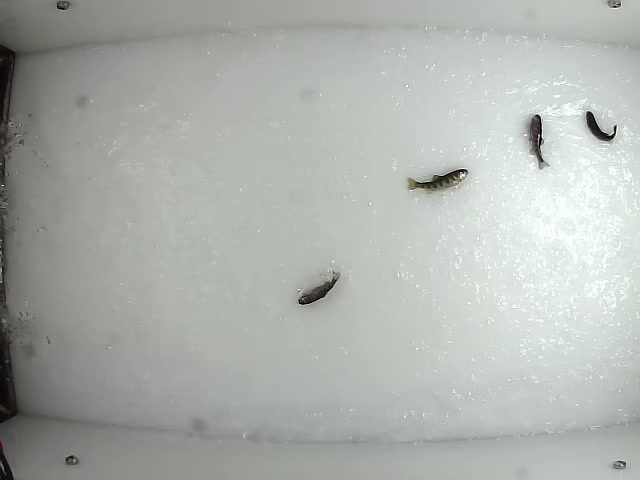fish: (405, 167, 472, 195), (297, 269, 342, 306), (524, 111, 550, 171), (583, 108, 620, 143)
